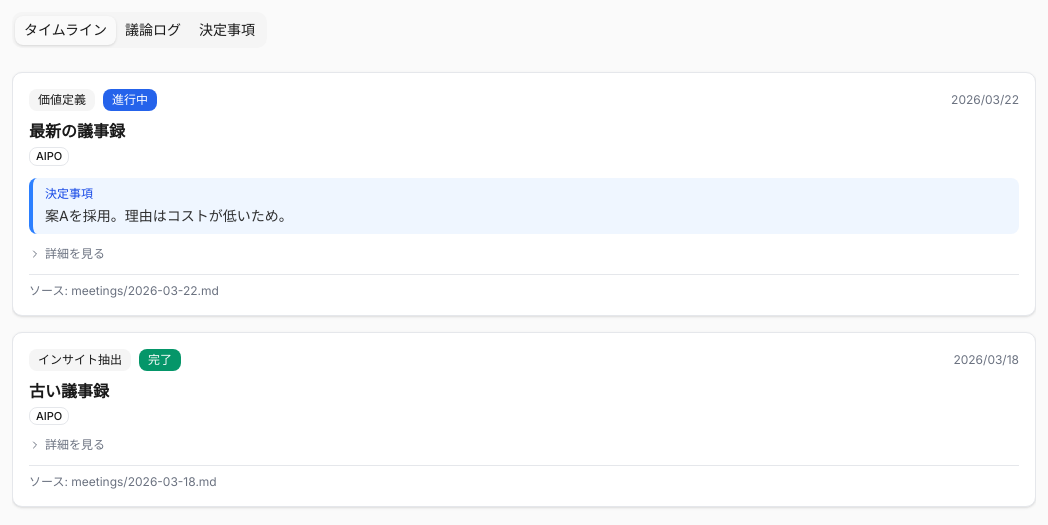
Test: TimelineTab › shows discussion logs when switching to discussion logs tab
The image size is (1048, 525).
Click the tab "議論ログ".
click(153, 30)  # box [116,16,190,44]
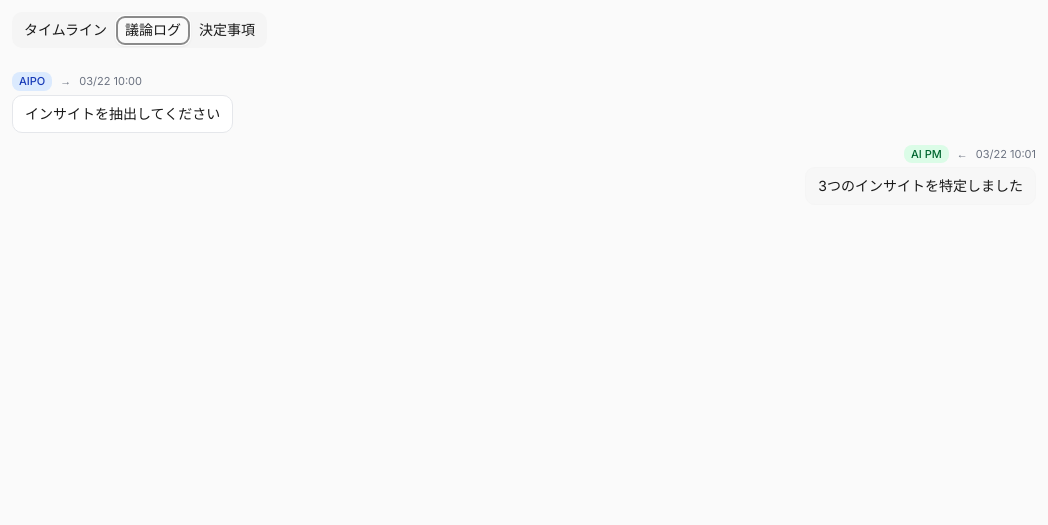
expect the text "インサイトを抽出してください" is shown: met, box [12,94,233,132]
expect the text "3つのインサイトを特定しました" is shown: met, box [805,167,1036,205]
